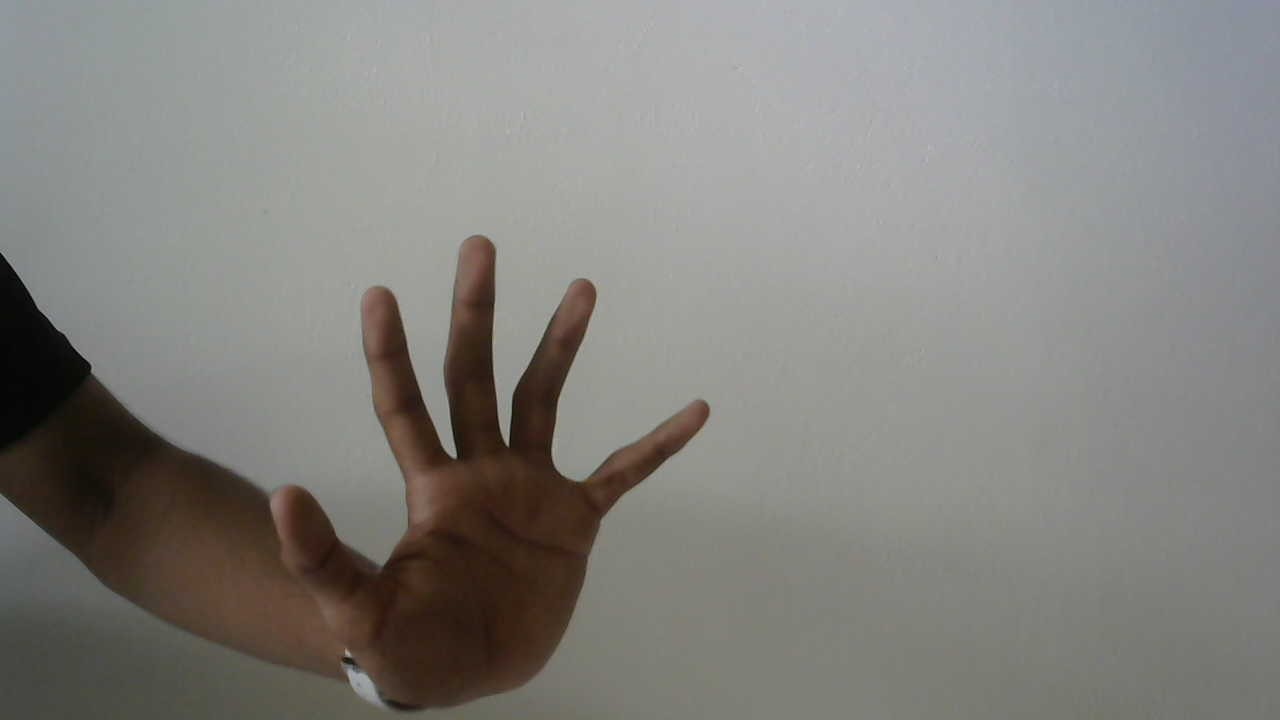hello: (261, 228, 718, 711)
